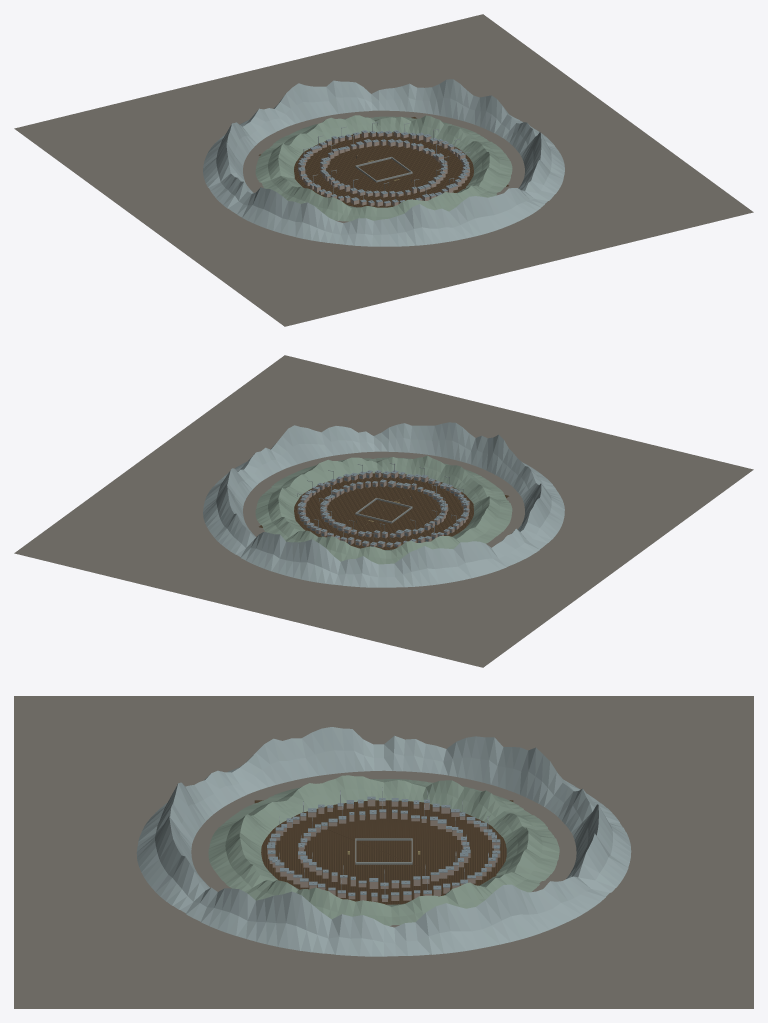
Rendered from defense_1_v2.glb.
3 views of the same model, one above another, from view 1: azimuth 30°, elevation 25°; view 2: azimuth 150°, elevation 25°; view 3: azimuth 270°, elevation 25° (orthographic). The views are drawn at different scales.
Visible parts, largest first — view 1: DISTANT_ground, DISTANT_far, DISTANT_near, PLAZA_FLAT, DISTANT_wall, DISTANT_roof, DISTANT_steel; view 2: DISTANT_ground, DISTANT_far, DISTANT_near, PLAZA_FLAT, DISTANT_roof, DISTANT_wall, DISTANT_steel; view 3: DISTANT_ground, DISTANT_far, DISTANT_near, PLAZA_FLAT, DISTANT_wall, DISTANT_roof, DISTANT_steel.
Part boxes in pixels (x1=…): DISTANT_ground: x1=14, y1=14, x2=753, y2=326; DISTANT_far: x1=203, y1=79, x2=564, y2=246; DISTANT_near: x1=255, y1=115, x2=512, y2=221; PLAZA_FLAT: x1=259, y1=117, x2=508, y2=207; DISTANT_wall: x1=298, y1=131, x2=469, y2=206; DISTANT_roof: x1=298, y1=130, x2=469, y2=203; DISTANT_steel: x1=301, y1=122, x2=470, y2=201; DISTANT_ground: x1=14, y1=355, x2=753, y2=667; DISTANT_far: x1=203, y1=422, x2=564, y2=587; DISTANT_near: x1=255, y1=455, x2=512, y2=564; PLAZA_FLAT: x1=259, y1=473, x2=508, y2=549; DISTANT_roof: x1=297, y1=470, x2=469, y2=547; DISTANT_wall: x1=297, y1=472, x2=469, y2=547; DISTANT_steel: x1=297, y1=463, x2=466, y2=543; DISTANT_ground: x1=14, y1=696, x2=753, y2=1008; DISTANT_far: x1=136, y1=727, x2=631, y2=956; DISTANT_near: x1=208, y1=775, x2=559, y2=925; PLAZA_FLAT: x1=254, y1=800, x2=513, y2=904; DISTANT_wall: x1=267, y1=799, x2=500, y2=901; DISTANT_roof: x1=267, y1=796, x2=500, y2=898; DISTANT_steel: x1=270, y1=787, x2=497, y2=896.
Size of the model in its own units: 1260 by 82.76 by 1260.
12 materials, 3 textured.
